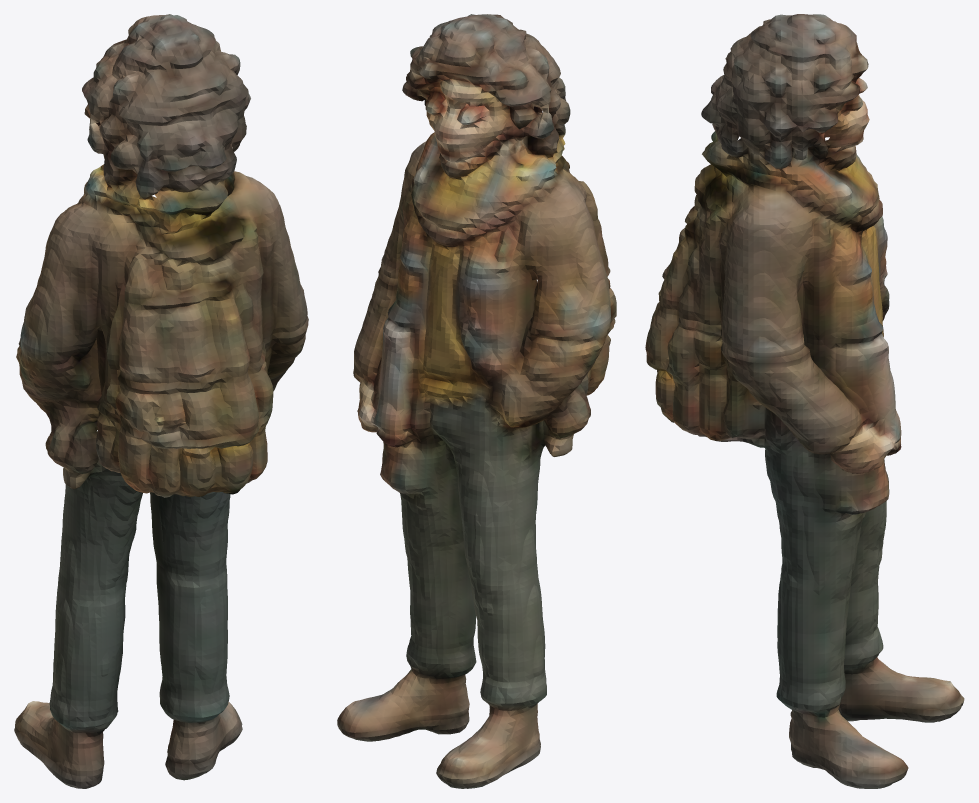
The model's file is guest-v3.glb.
The picture shows the model from 3 angles, left to right: view 1: azimuth 30°, elevation 25°; view 2: azimuth 150°, elevation 25°; view 3: azimuth 270°, elevation 25°; orthographic projection. The views are drawn at different scales.
Parts seen in each view (by area): view 1: world; view 2: world; view 3: world.
Part boxes in pixels (left/top/right/bottom): world: left=14, top=14, right=308, bottom=788; world: left=337, top=14, right=616, bottom=788; world: left=645, top=14, right=964, bottom=788.
Bounding box in the file's own units: 0.3598 × 1.01 × 0.3985.
